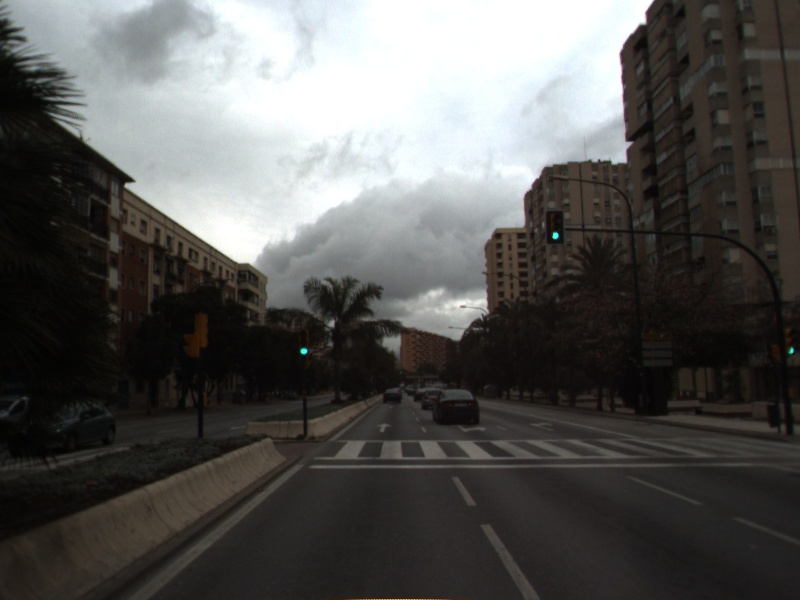RIGHT: (527, 419, 558, 434)
STRAIGHT: (374, 420, 395, 434)
STRAIGHT_RIGHT: (449, 421, 489, 434)
